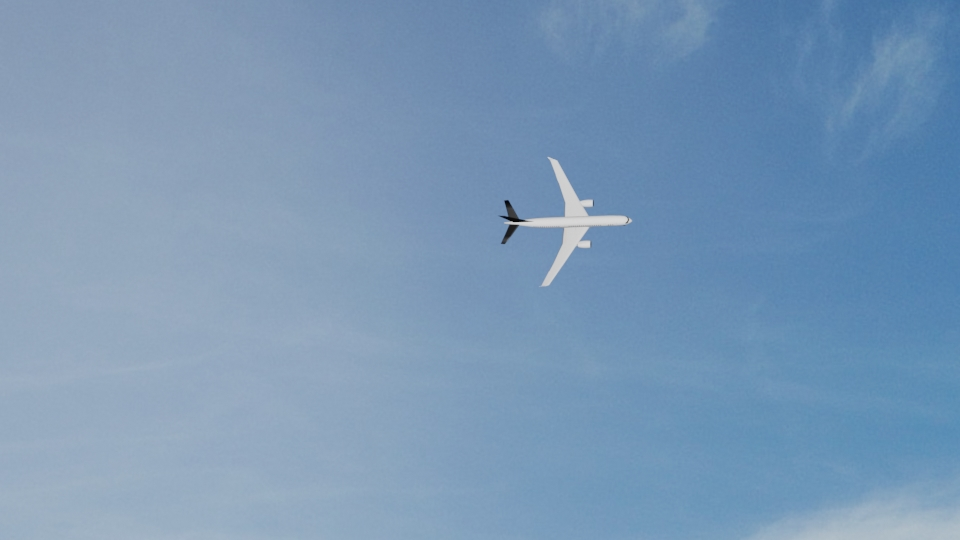plane: (496, 154, 634, 289)
